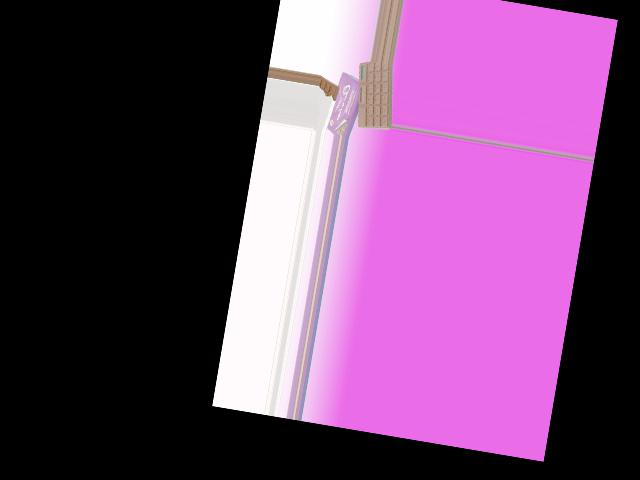chocolate: (348, 62, 401, 131)
